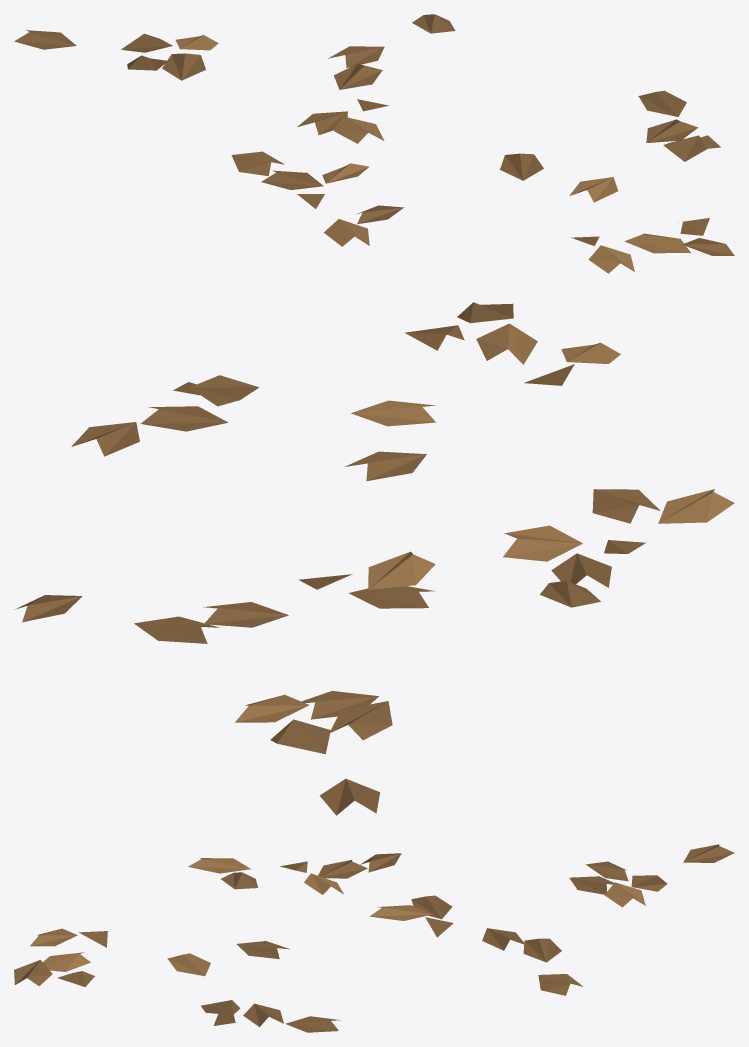
The model's file is SM_Env_Leaves_02.fbx.
3 views of the same model, one above another, from view 1: azimuth 30°, elevation 25°; view 2: azimuth 150°, elevation 25°; view 3: azimuth 270°, elevation 25° (orthographic). The views are drawn at different scales.
Parts seen in each view (by area): view 1: SM_Env_Leaves_02; view 2: SM_Env_Leaves_02; view 3: SM_Env_Leaves_02.
Boxes of the visible parts, <box> form: SM_Env_Leaves_02: <box>14,14,734,273</box>; SM_Env_Leaves_02: <box>15,302,734,815</box>; SM_Env_Leaves_02: <box>14,844,734,1032</box>.
Size of the model in its own units: 177 by 4.71 by 284.
Materials: 1 (1 with a texture image).
